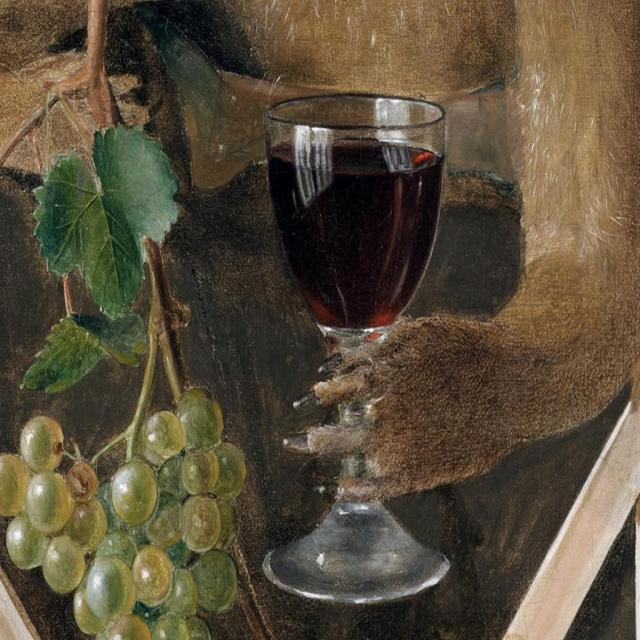Grape: (0, 390, 246, 640)
